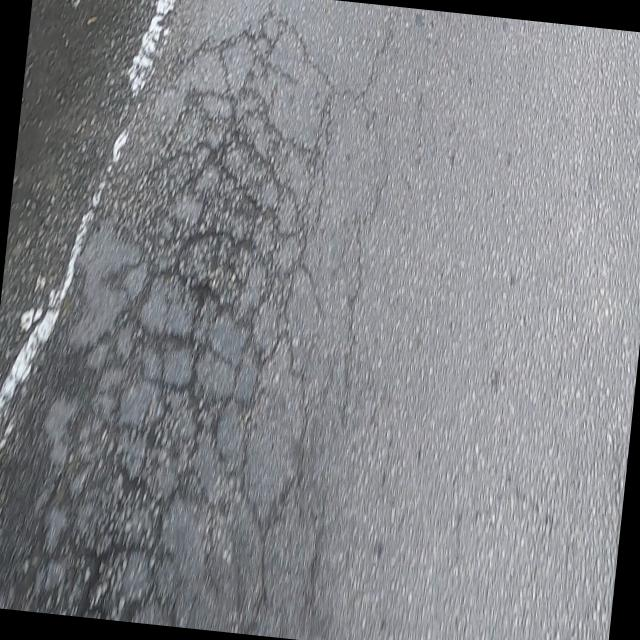Retak-Buaya: (3, 7, 337, 634)
